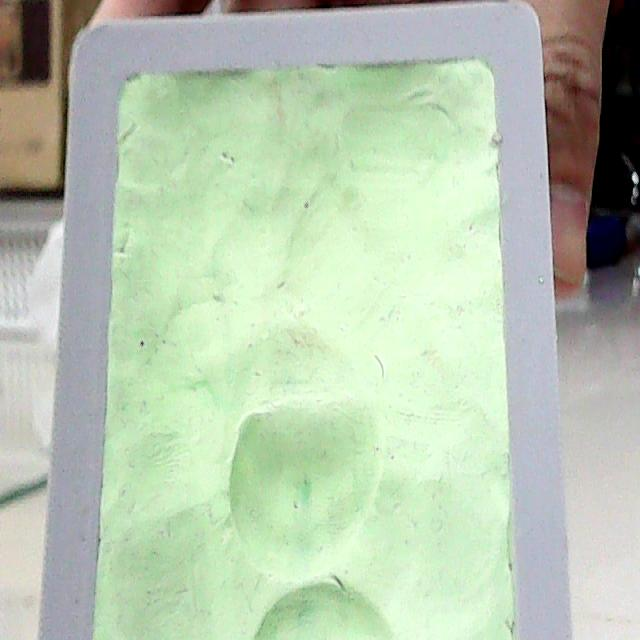block: (31, 2, 575, 634)
